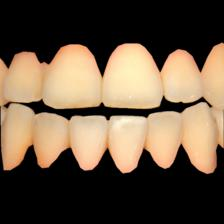cavity: (29, 125, 39, 145), (36, 150, 47, 164), (104, 133, 112, 146), (217, 126, 223, 143), (144, 134, 149, 146), (66, 140, 73, 146)
tooth: (102, 39, 164, 110), (46, 41, 101, 110), (69, 113, 112, 172), (161, 47, 204, 103), (109, 116, 148, 173), (186, 102, 216, 174), (1, 103, 32, 171), (32, 111, 67, 171), (7, 52, 44, 103), (148, 111, 179, 170)
